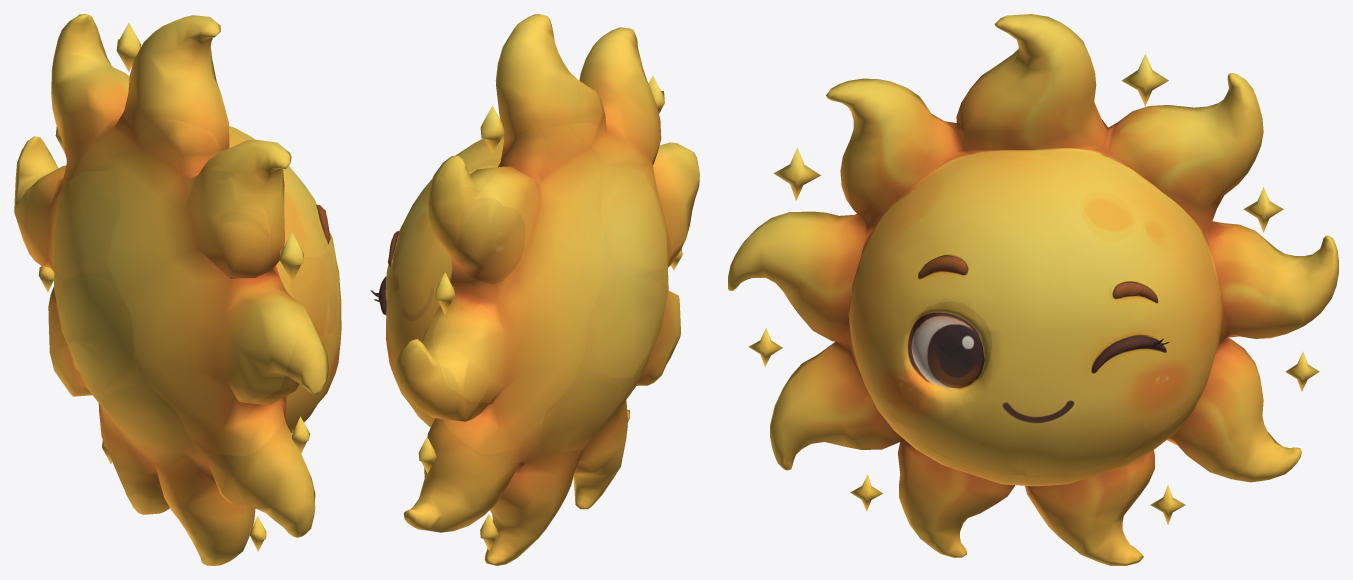
The model's file is pet_sunny_sun_singleview_v2.glb.
The picture shows the model from 3 angles, left to right: view 1: azimuth 30°, elevation 25°; view 2: azimuth 150°, elevation 25°; view 3: azimuth 270°, elevation 25°; orthographic projection. The views are drawn at different scales.
Visible parts, largest first — view 1: tripo_node_51234b18-9ada-40ab-8903-6c19a5f629ab; view 2: tripo_node_51234b18-9ada-40ab-8903-6c19a5f629ab; view 3: tripo_node_51234b18-9ada-40ab-8903-6c19a5f629ab.
Part boxes in pixels (<box>): tripo_node_51234b18-9ada-40ab-8903-6c19a5f629ab: <box>14,14,341,565</box>; tripo_node_51234b18-9ada-40ab-8903-6c19a5f629ab: <box>370,14,699,565</box>; tripo_node_51234b18-9ada-40ab-8903-6c19a5f629ab: <box>728,14,1338,565</box>.
Bounding box in the file's own units: 0.445 × 0.9941 × 0.998.
Materials: 1 (1 with a texture image).
